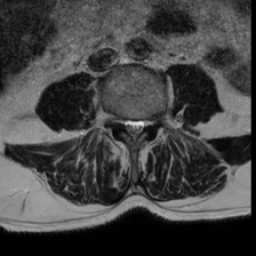CCS_normal: (131, 112, 137, 145)
LFS_stenosis: (145, 111, 155, 133)
LLS_normal: (137, 112, 145, 140)
RFS_stenosis: (115, 106, 123, 130)
RLS_normal: (123, 112, 131, 141)
